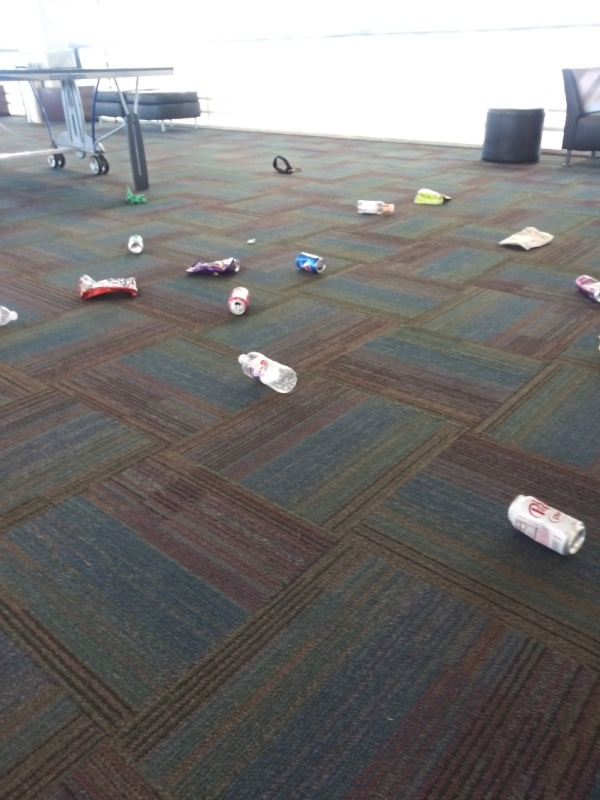bag: (493, 223, 557, 254), (76, 272, 143, 301), (182, 252, 243, 279), (410, 182, 456, 208)
bottle: (232, 348, 302, 396), (352, 196, 402, 220), (1, 303, 24, 332)
can: (505, 487, 589, 561), (224, 282, 255, 318), (291, 249, 330, 275), (572, 269, 600, 304), (124, 232, 148, 257)
